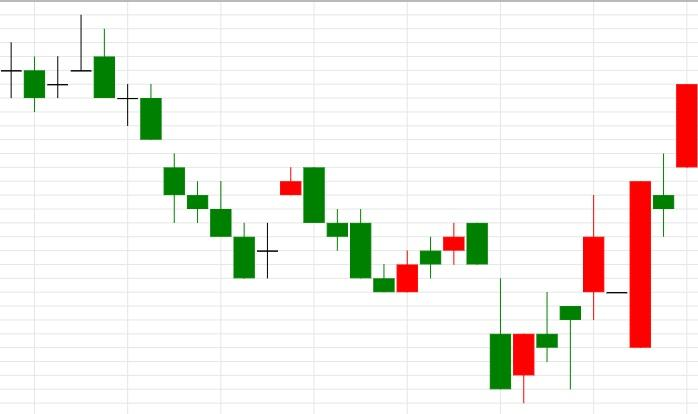bearish_engulfing_fall: (233, 167, 326, 278), (372, 222, 488, 292)
bullish_engulfing_rise: (303, 167, 419, 293)
